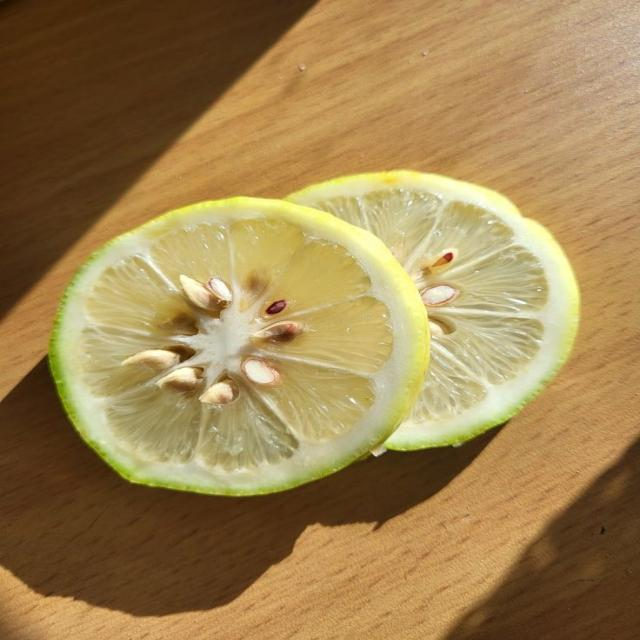lemon: (50, 198, 428, 495), (289, 171, 578, 449)
